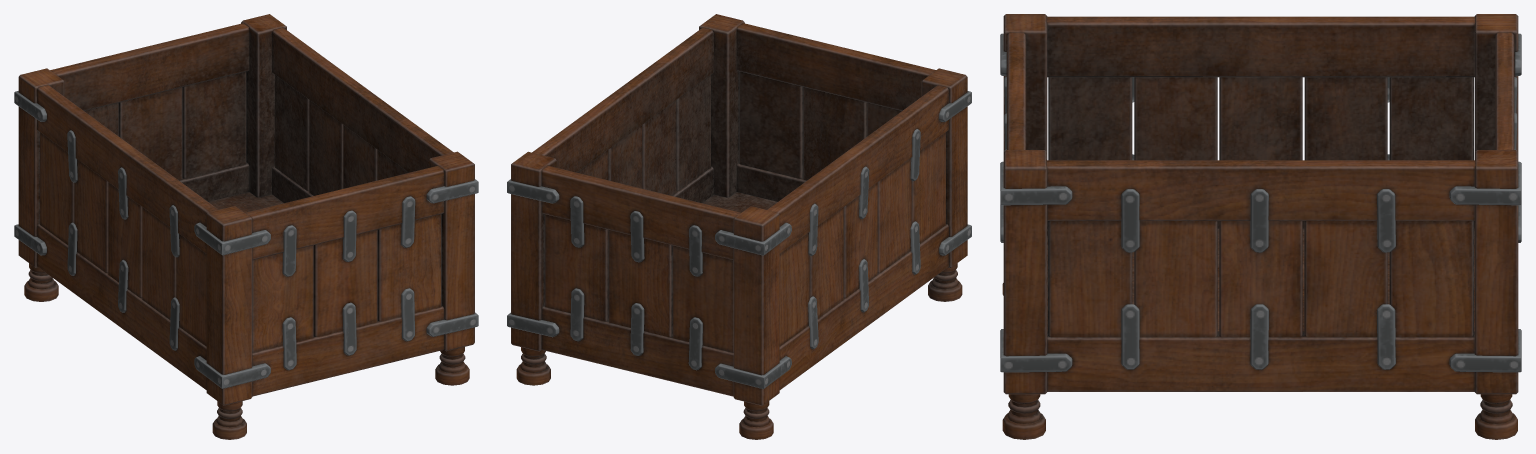
The model's file is SM_Chest.fbx.
3 views of the same model, side by side, from view 1: azimuth 30°, elevation 25°; view 2: azimuth 150°, elevation 25°; view 3: azimuth 270°, elevation 25° (orthographic). The views are drawn at different scales.
Visible parts, largest first — view 1: SM_Chest_LOD0; view 2: SM_Chest_LOD0; view 3: SM_Chest_LOD0.
Boxes of the visible parts, box(x1,y1,x2,y2) form: SM_Chest_LOD0: box(14, 14, 478, 439); SM_Chest_LOD0: box(507, 14, 971, 439); SM_Chest_LOD0: box(1000, 14, 1521, 439).
Bounding box in the file's own units: 52.29 × 73.38 × 42.34.
Materials: 1 (1 with a texture image).
